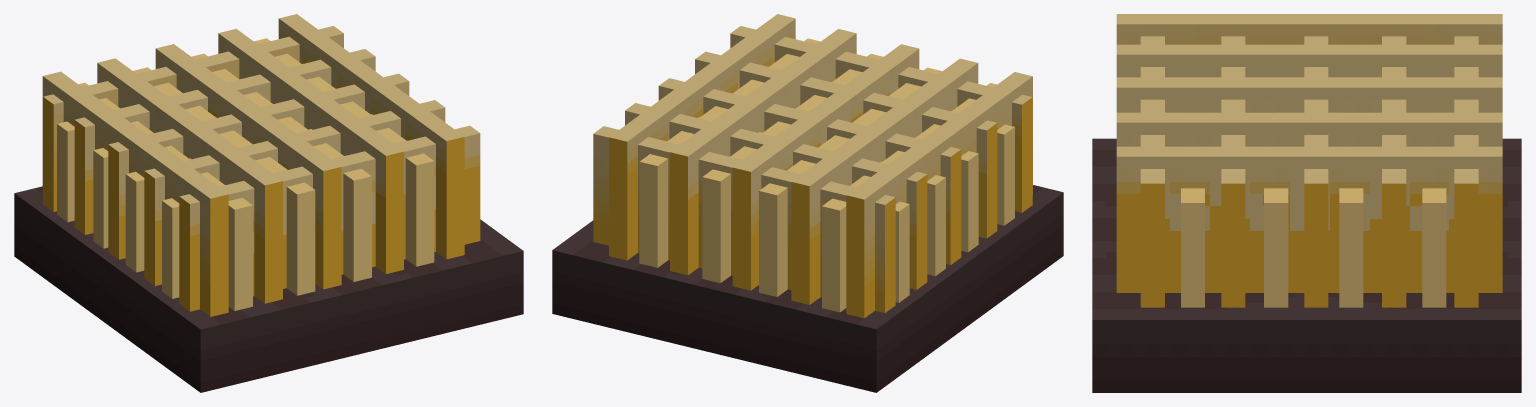
The model's file is tile_wheat.gltf.
3 renders of one model, left to right at view 1: azimuth 30°, elevation 25°; view 2: azimuth 150°, elevation 25°; view 3: azimuth 270°, elevation 25°, orthographic. The views are drawn at different scales.
Visible parts, largest first — view 1: cube (×19); view 2: cube (×19); view 3: cube (×15).
Part boxes in pixels (box(x1,y1,x2,y2)): cube (×19): box(14, 14, 523, 392); cube (×19): box(552, 14, 1063, 392); cube (×15): box(1092, 14, 1521, 392).
Size of the model in its own units: 1 by 0.5375 by 1.
1 material, 1 textured.
